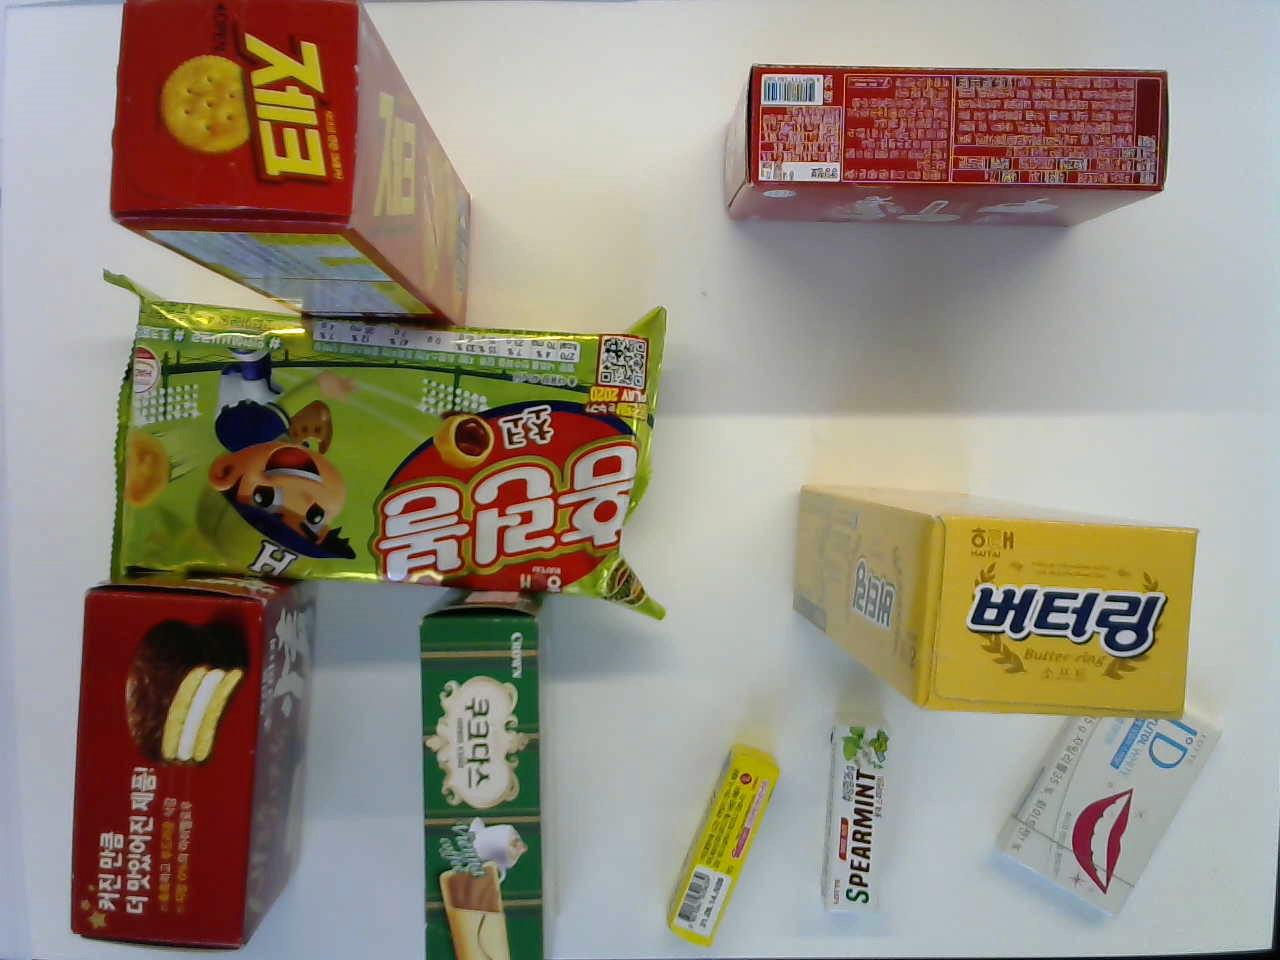ID_gum: (981, 701, 1228, 922)
buttering: (787, 481, 1195, 716)
chocopie: (58, 579, 325, 950)
couque_coffee: (413, 588, 566, 959)
couque_white: (717, 65, 1164, 237)
homerunball: (90, 308, 673, 584)
juicyfresh: (650, 738, 783, 943)
spearmint: (817, 700, 893, 917)
zec: (107, 1, 469, 319)
